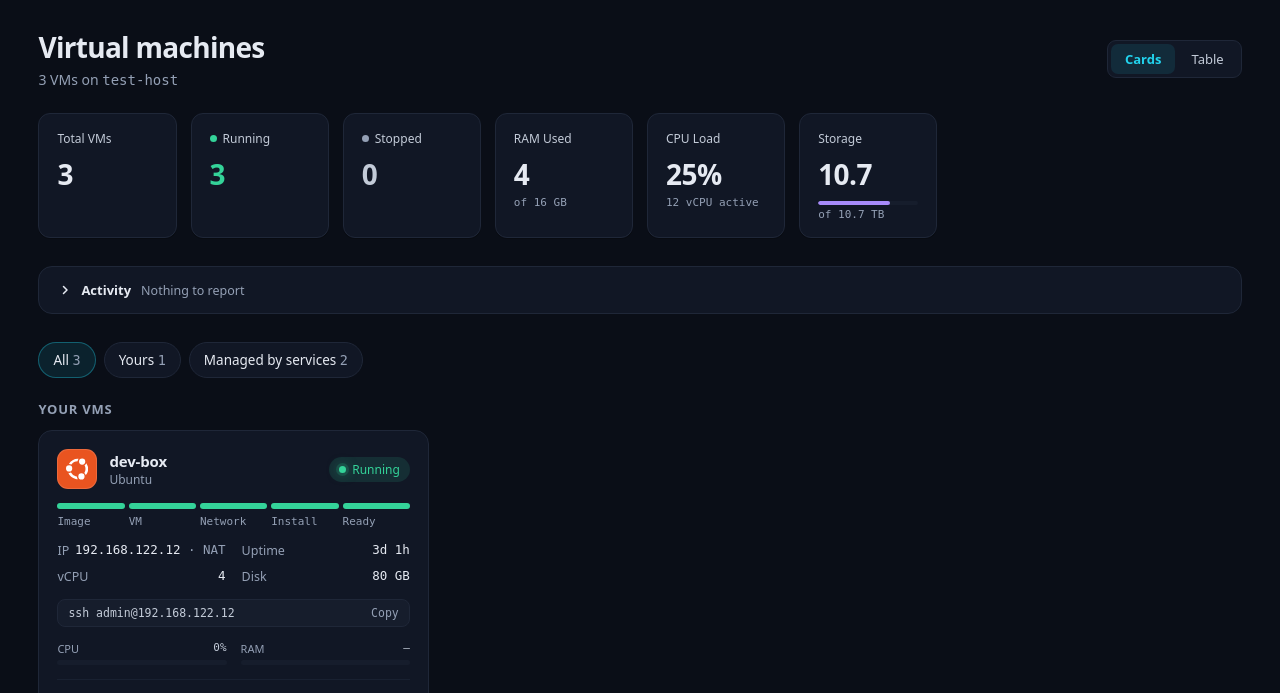
Dashboard: your VMs and services’ VMs › filters to one kind
Click the button "Yours 1". click: {"x": 142, "y": 360}
box: [104,342,181,378]
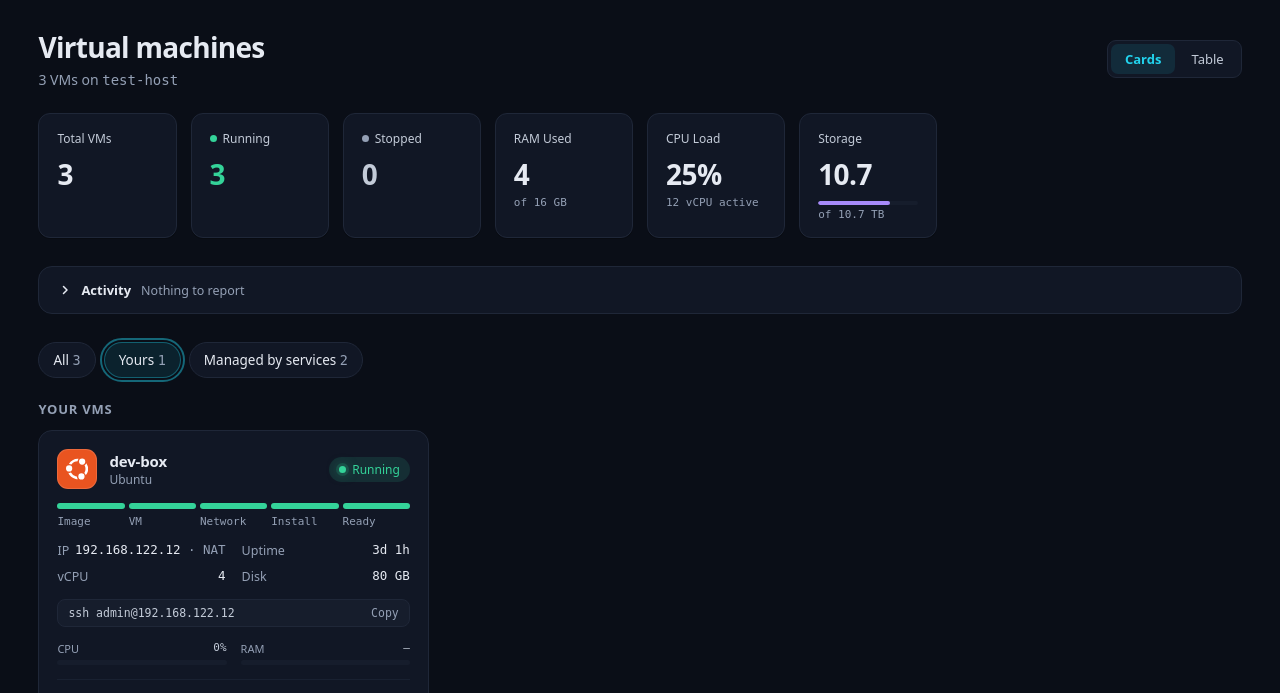
Expected: the text "dev-box" is shown, [109,450,167,470]
Click the button "Managed by services 2". click: {"x": 276, "y": 360}
box: [189,342,363,378]
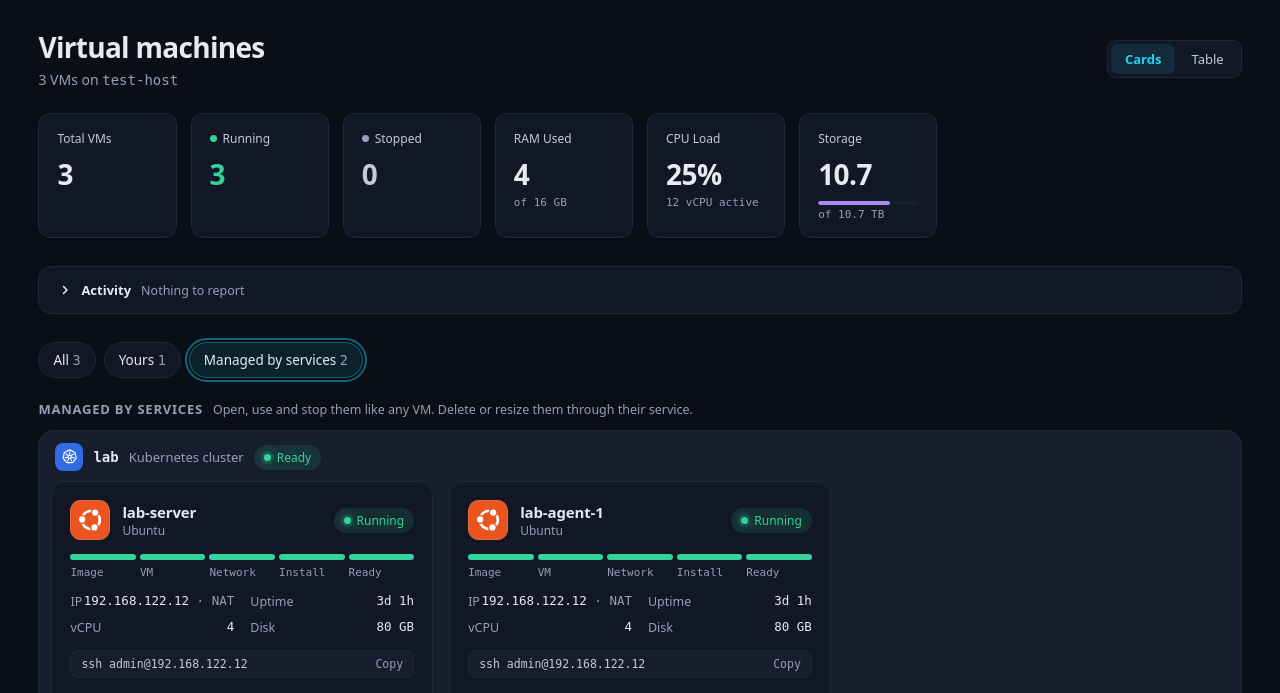
Now the heading "Your VMs" is gone
Now the text "lab-server" is shown, box [122,502,196,522]
